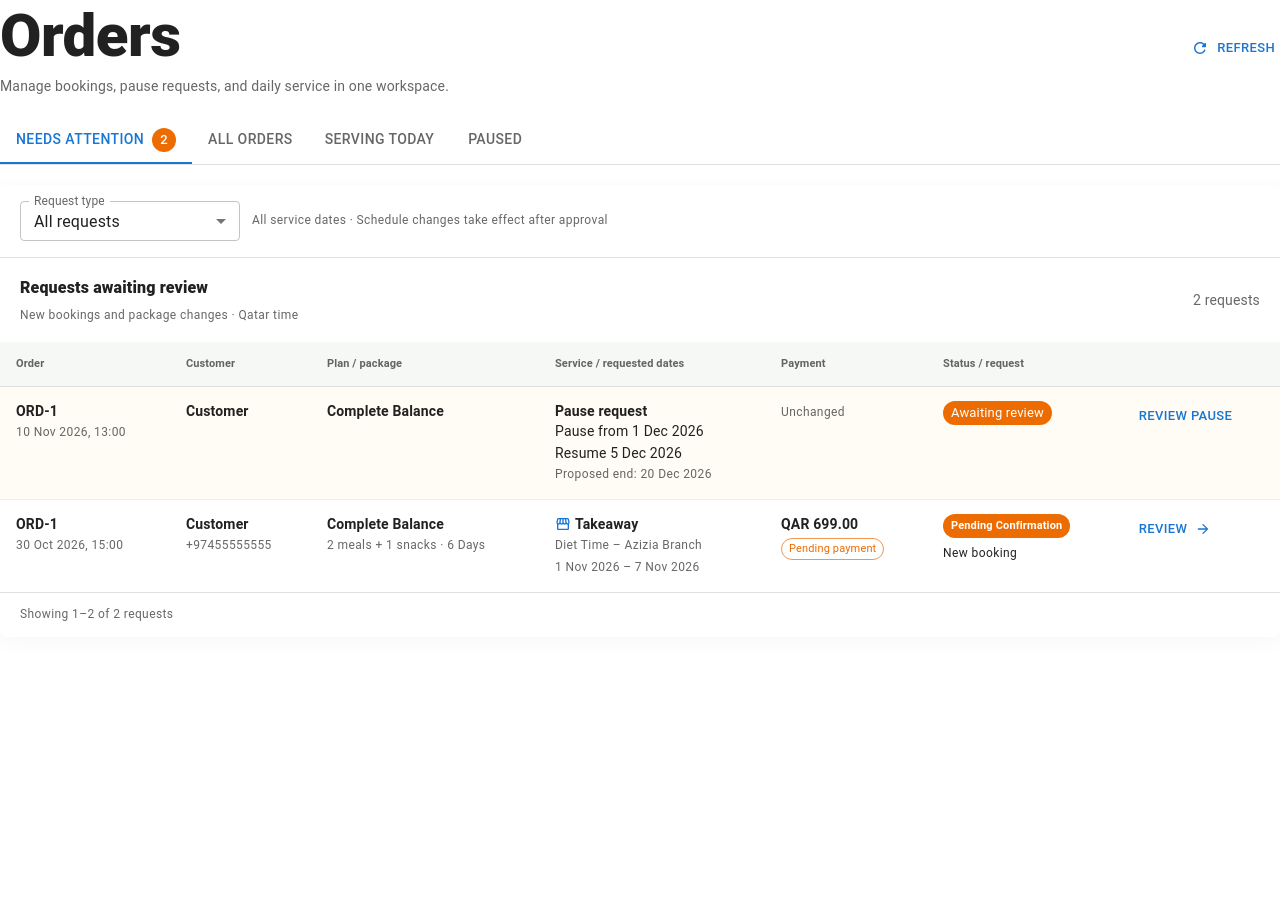
Unified order requests › shows pause requests and bookings in the same grid across all service dates
Expected: the button "Review" is shown, [1134,514,1214,545]
Click the button "Review pause" at [1186, 416], box [1134,401,1237,432]
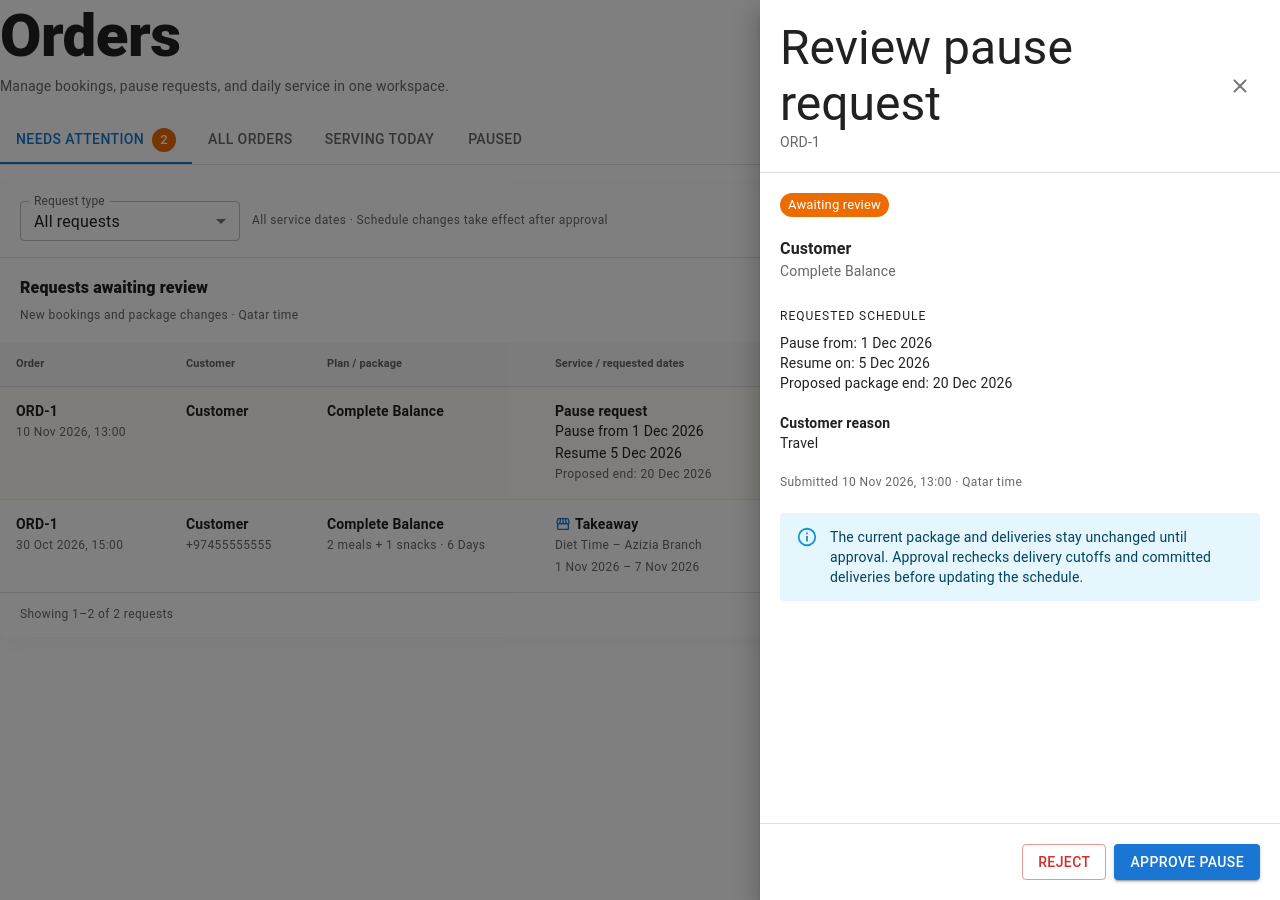
Expected: the dialog "Review pause request" is shown, [760,0,1279,899]
Expected: the text "Travel" is shown, [780,435,818,451]
